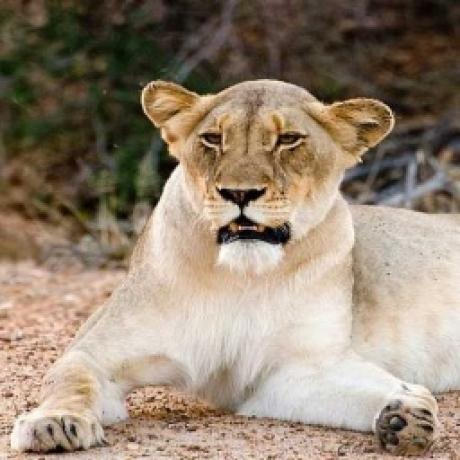Lion: (8, 75, 460, 459)
